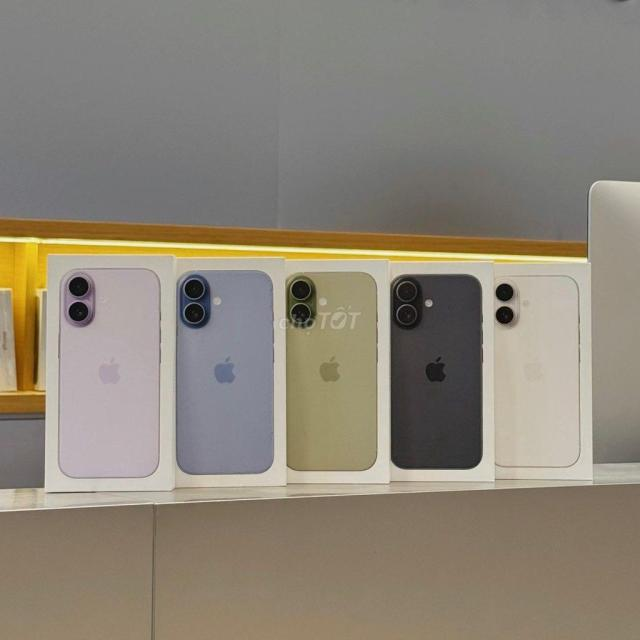gen_17: (49, 256, 166, 484), (278, 266, 386, 486), (174, 262, 276, 492), (494, 254, 591, 490), (389, 265, 489, 491)
